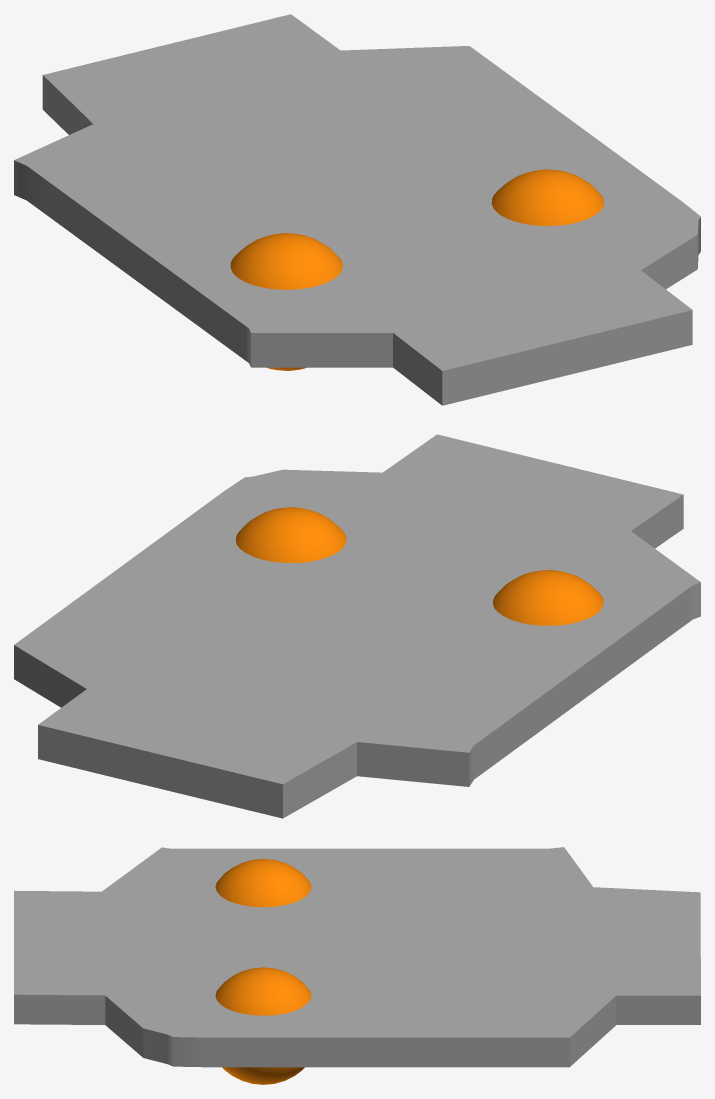
The model's file is BookFillingFix.fbx.
3 views of the same model, one above another, from view 1: azimuth 30°, elevation 25°; view 2: azimuth 150°, elevation 25°; view 3: azimuth 270°, elevation 25° (orthographic). The views are drawn at different scales.
Visible parts, largest first — view 1: pCube1, LavaSphere, NatureSphere; view 2: pCube1, LavaSphere, NatureSphere; view 3: pCube1, NatureSphere, LavaSphere.
Boxes of the visible parts, x1,y1,x2,y2 form: pCube1: [14, 14, 700, 405]; LavaSphere: [230, 233, 342, 370]; NatureSphere: [491, 169, 603, 225]; pCube1: [14, 434, 700, 818]; LavaSphere: [493, 570, 603, 625]; NatureSphere: [236, 507, 346, 562]; pCube1: [14, 847, 700, 1067]; NatureSphere: [215, 967, 311, 1084]; LavaSphere: [215, 859, 311, 907].
Size of the model in its own units: 45.68 by 11.94 by 69.59.
